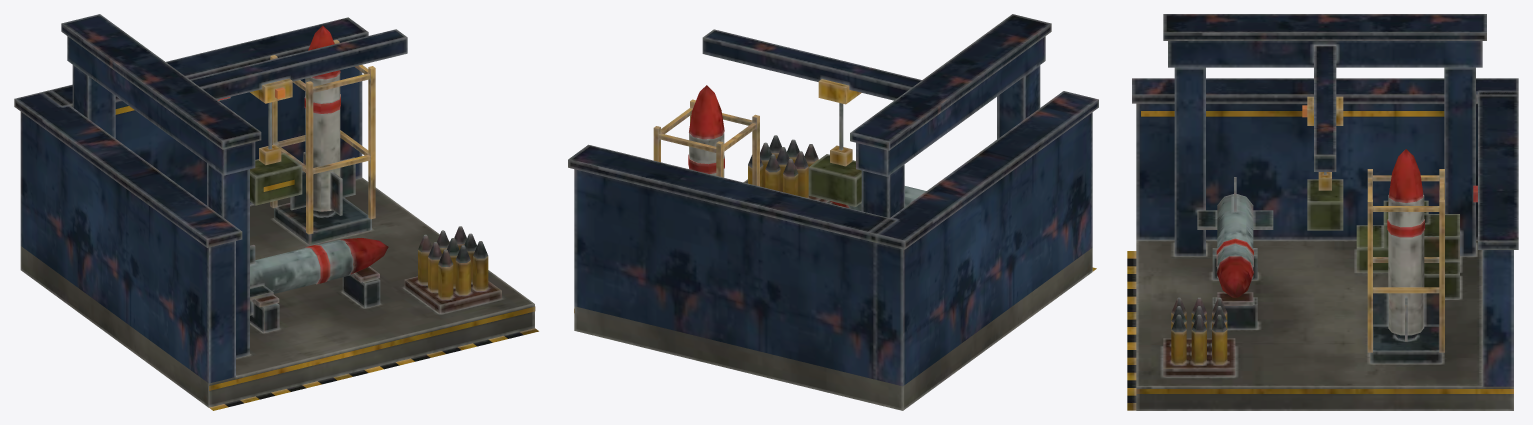
The model's file is arms_plant.glb.
3 views of the same model, side by side, from view 1: azimuth 30°, elevation 25°; view 2: azimuth 150°, elevation 25°; view 3: azimuth 270°, elevation 25° (orthographic).
Parts seen in each view (by area): view 1: te_arms_plant; view 2: te_arms_plant; view 3: te_arms_plant.
Part boxes in pixels (<box>): te_arms_plant: <box>14,14,538,410</box>; te_arms_plant: <box>568,14,1098,410</box>; te_arms_plant: <box>1127,14,1518,410</box>.
Bounding box in the file's own units: 0.86 × 0.615 × 0.87.
1 material, 1 textured.
